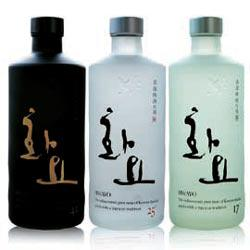soju: (5, 14, 246, 230)
